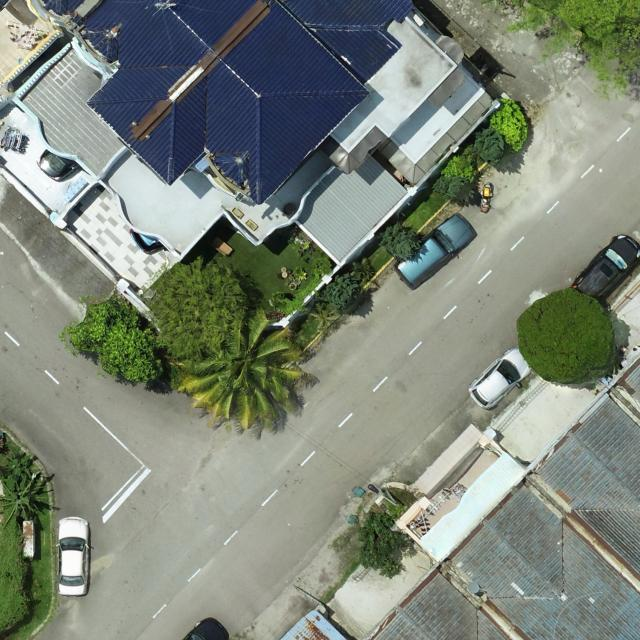Tree: (169, 308, 314, 430), (506, 0, 640, 100), (142, 254, 248, 361), (515, 287, 618, 386), (59, 294, 164, 383), (356, 512, 408, 578), (0, 469, 51, 528), (488, 98, 528, 154), (376, 221, 422, 259), (318, 272, 360, 310), (431, 173, 476, 207), (472, 125, 506, 168), (441, 154, 478, 180), (5, 447, 32, 480), (0, 426, 5, 452)
